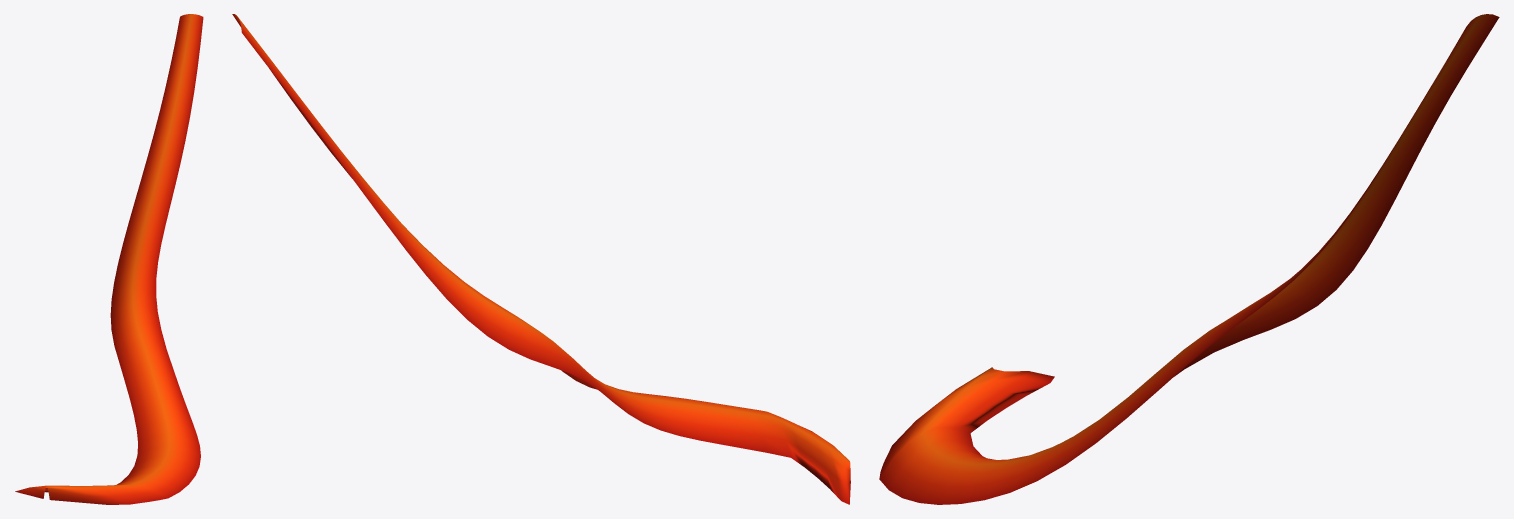
The model's file is lava.obj.
3 renders of one model, left to right at view 1: azimuth 30°, elevation 25°; view 2: azimuth 150°, elevation 25°; view 3: azimuth 270°, elevation 25°, orthographic. The views are drawn at different scales.
Visible parts, largest first — view 1: lava; view 2: lava; view 3: lava.
Boxes of the visible parts, x1,y1,x2,y2 form: lava: (15, 14, 203, 504); lava: (232, 14, 850, 504); lava: (879, 14, 1499, 504).
Size of the model in its own units: 0.7253 by 0.7677 by 0.6817.
